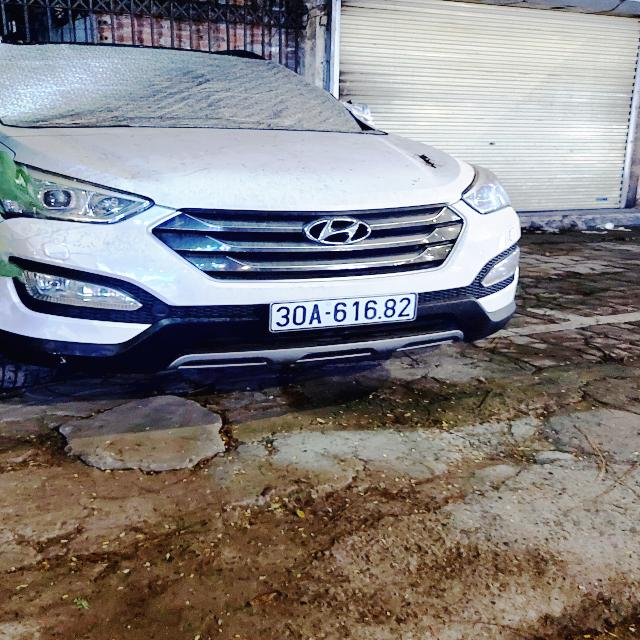license_plate: (269, 292, 421, 335)
